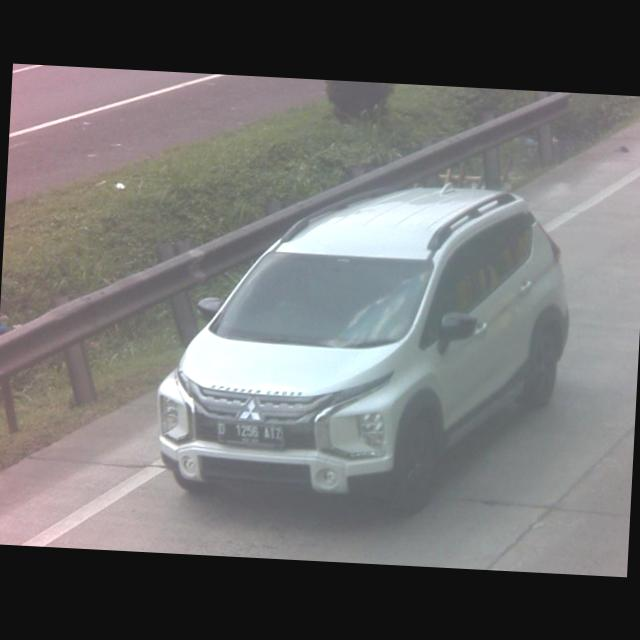plate: (215, 416, 285, 448)
